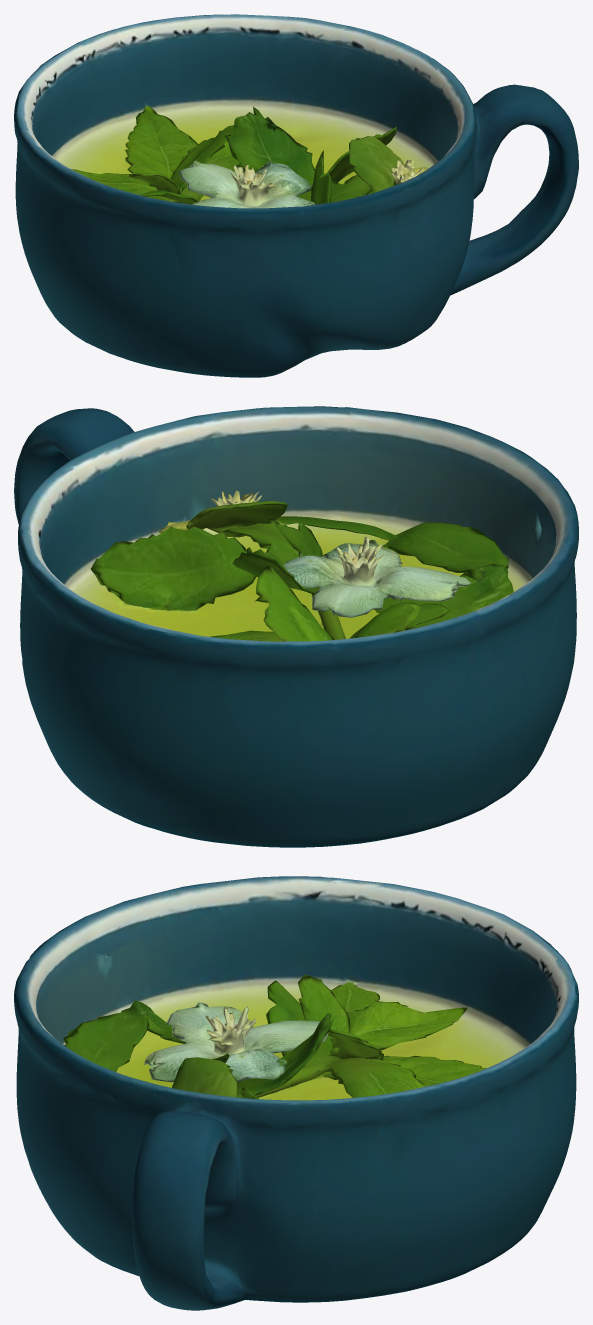
File: mint-tea.glb
The picture shows the model from 3 angles, top to bottom: view 1: azimuth 30°, elevation 25°; view 2: azimuth 150°, elevation 25°; view 3: azimuth 270°, elevation 25°; orthographic projection. The views are drawn at different scales.
Visible parts, largest first — view 1: tripo_node_27d98e7e-5f0c-435e-86a2-671cc7a239c0; view 2: tripo_node_27d98e7e-5f0c-435e-86a2-671cc7a239c0; view 3: tripo_node_27d98e7e-5f0c-435e-86a2-671cc7a239c0.
Part boxes in pixels (x1=…): tripo_node_27d98e7e-5f0c-435e-86a2-671cc7a239c0: x1=14, y1=14, x2=578, y2=377; tripo_node_27d98e7e-5f0c-435e-86a2-671cc7a239c0: x1=14, y1=406, x2=578, y2=847; tripo_node_27d98e7e-5f0c-435e-86a2-671cc7a239c0: x1=14, y1=876, x2=578, y2=1310.
Size of the model in its own units: 0.9798 by 0.3616 by 0.8483.
Materials: 1 (1 with a texture image).
